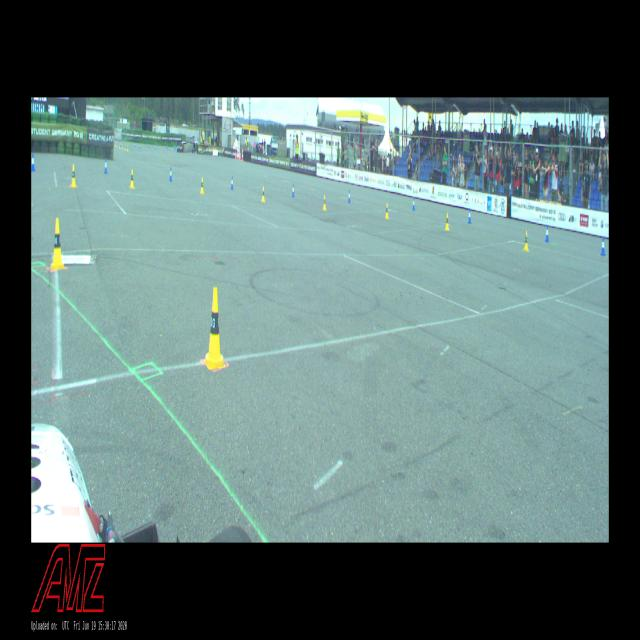blue_cone: (600, 237, 606, 256), (31, 153, 35, 171), (545, 225, 549, 242), (104, 159, 108, 174), (468, 209, 472, 224), (169, 167, 172, 181), (230, 176, 233, 190), (347, 191, 350, 203), (412, 198, 415, 210), (292, 184, 294, 198)
yellow_cone: (204, 288, 225, 367), (50, 217, 64, 271), (70, 164, 76, 187), (522, 230, 528, 251), (444, 212, 450, 230), (130, 170, 134, 188), (200, 177, 204, 194), (261, 186, 265, 202), (385, 203, 389, 219), (322, 195, 326, 210), (124, 145, 126, 150), (127, 145, 128, 151), (122, 144, 123, 150), (119, 145, 120, 149)
